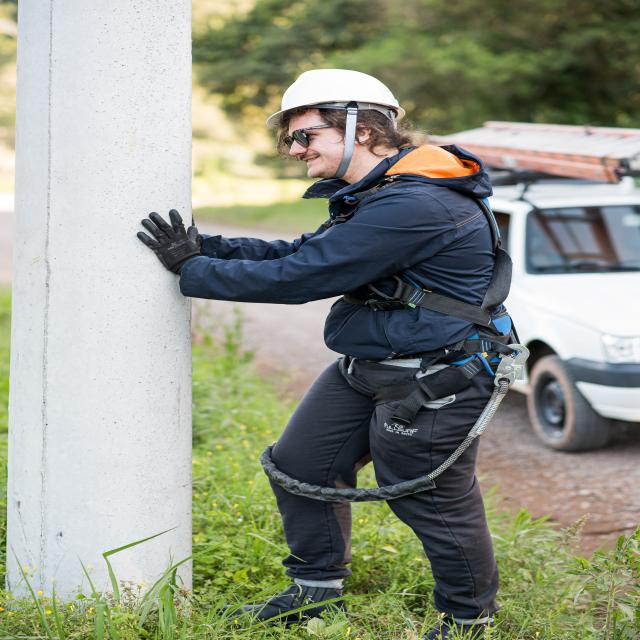capacete: (264, 68, 410, 130)
luva: (134, 208, 205, 276)
